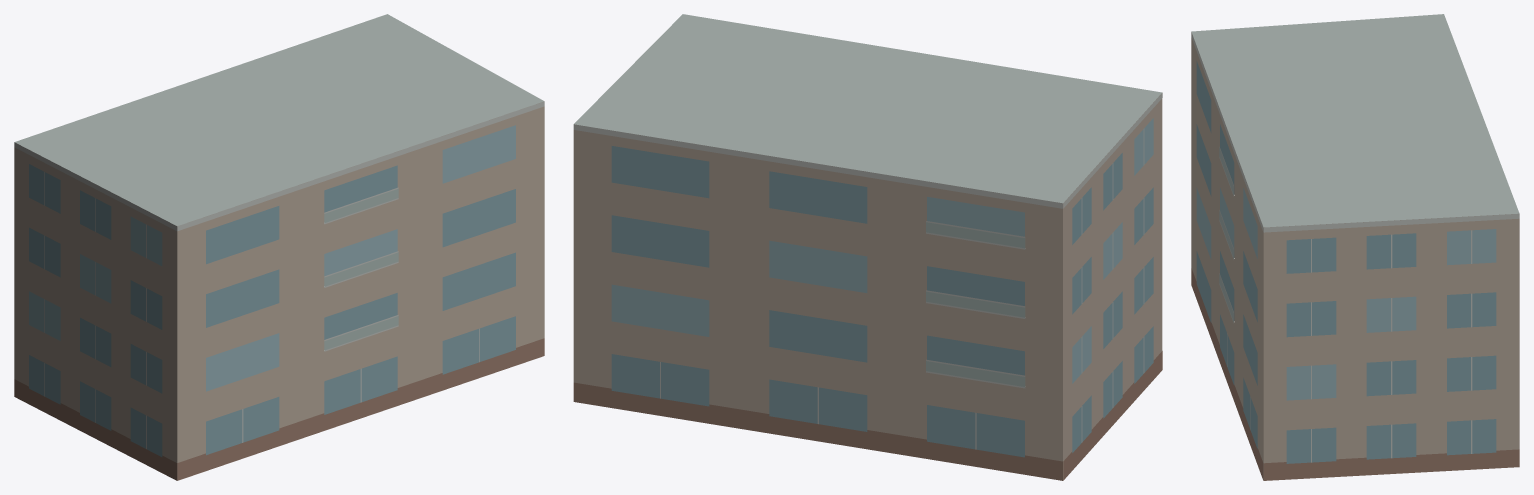
The model's file is survey-upis-32848902.glb.
3 views of the same model, side by side, from view 1: azimuth 30°, elevation 25°; view 2: azimuth 150°, elevation 25°; view 3: azimuth 270°, elevation 25° (orthographic). The views are drawn at different scales.
Parts seen in each view (by area): view 1: survey-upis-32848902.tmp; view 2: survey-upis-32848902.tmp; view 3: survey-upis-32848902.tmp.
Boxes of the visible parts, x1,y1,x2,y2 form: survey-upis-32848902.tmp: (14,14,544,480); survey-upis-32848902.tmp: (573,14,1162,480); survey-upis-32848902.tmp: (1191,14,1519,480).
Size of the model in its own units: 22.05 by 12.2 by 14.34.
